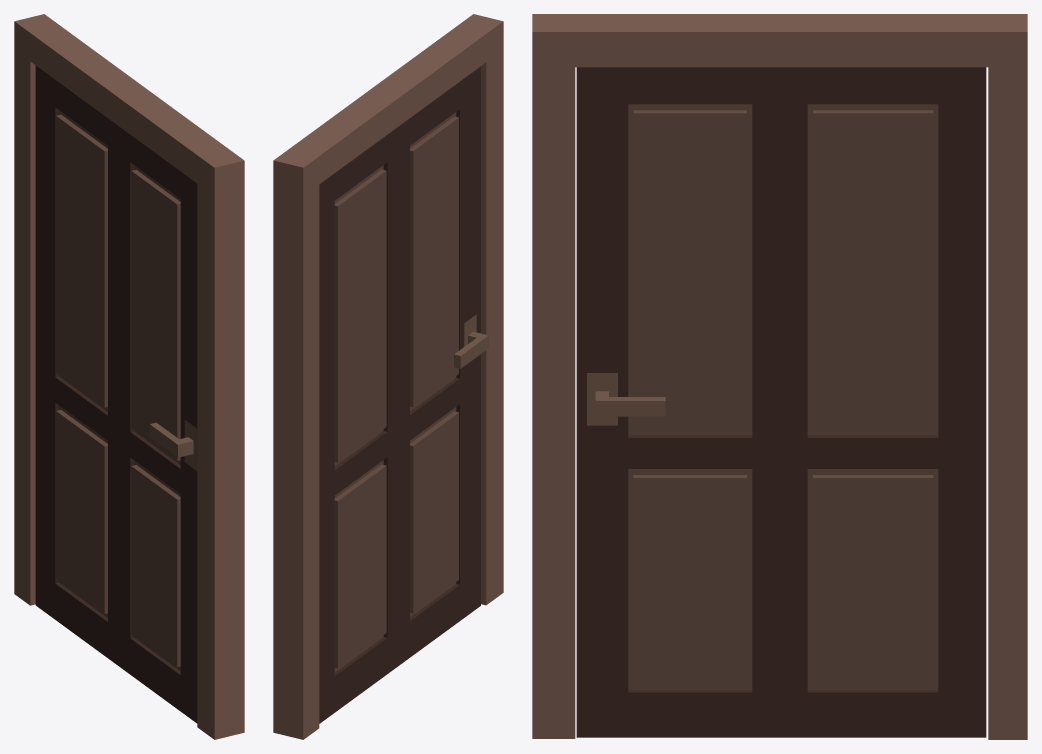
The model's file is Doors.fbx.
3 views of the same model, side by side, from view 1: azimuth 30°, elevation 25°; view 2: azimuth 150°, elevation 25°; view 3: azimuth 270°, elevation 25° (orthographic). The views are drawn at different scales.
Parts seen in each view (by area): view 1: Cube, Cube.001; view 2: Cube, Cube.001; view 3: Cube, Cube.001.
Boxes of the visible parts, x1,y1,x2,y2 form: Cube: [35, 65, 197, 723]; Cube.001: [14, 14, 244, 739]; Cube: [319, 66, 488, 723]; Cube.001: [273, 14, 503, 739]; Cube: [576, 67, 986, 737]; Cube.001: [532, 14, 1027, 739].
Bounding box in the file's own units: 32.61 × 343 × 218.
